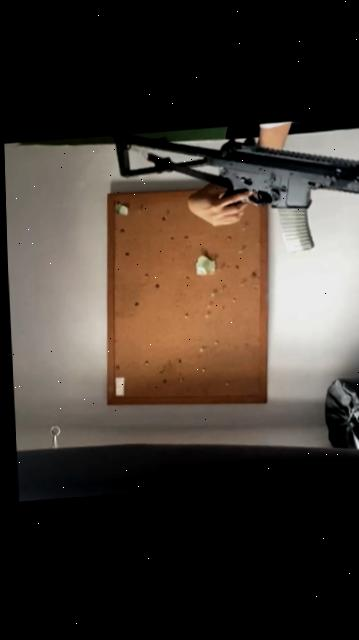rifle: (93, 120, 359, 264)
